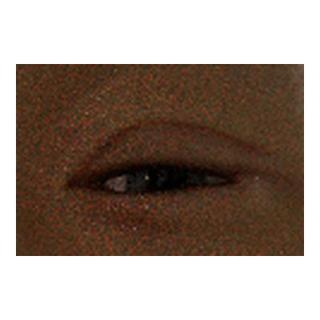pupil: (150, 168, 183, 201)
